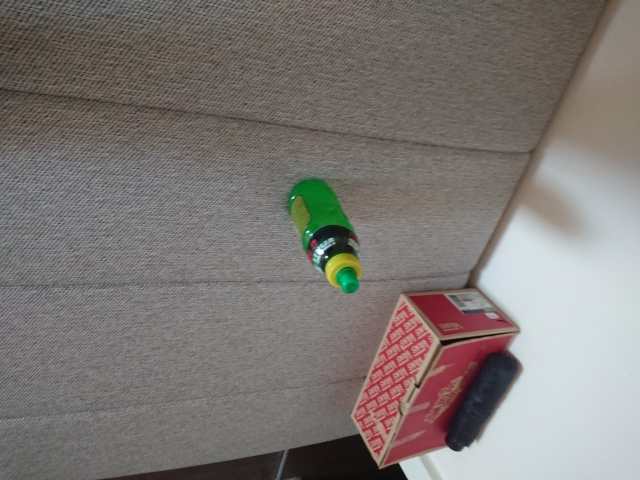Vindi Iso Sport Lemon-Grapefruit 500mL: (284, 177, 364, 296)
